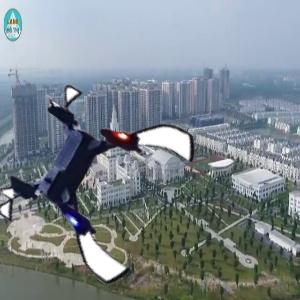drone: (11, 90, 188, 267)
